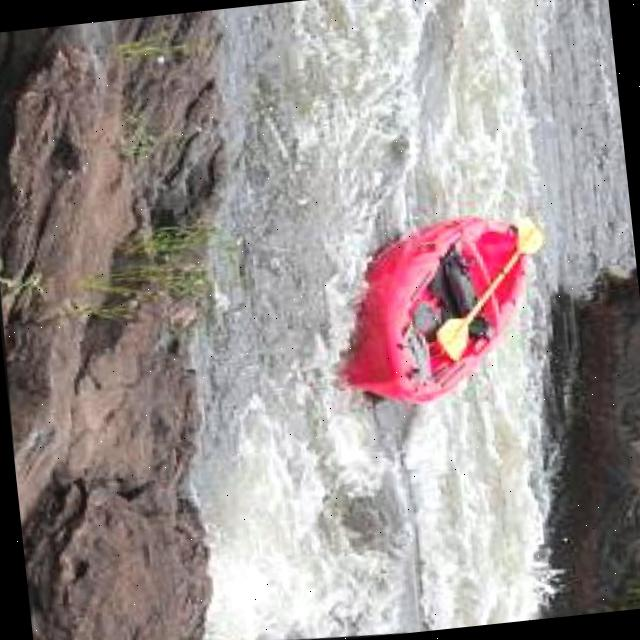kayak: (343, 220, 541, 404)
